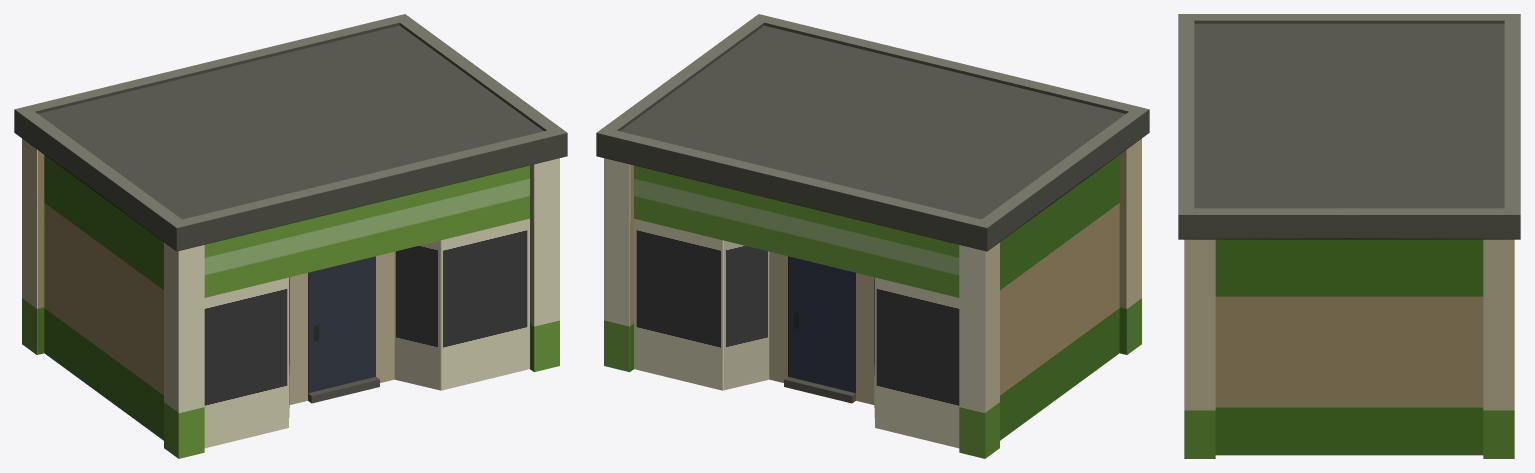
Rendered from store_small_mesh.fbx.
3 renders of one model, left to right at view 1: azimuth 30°, elevation 25°; view 2: azimuth 150°, elevation 25°; view 3: azimuth 270°, elevation 25°, orthographic. The views are drawn at different scales.
Visible parts, largest first — view 1: store_small_mesh; view 2: store_small_mesh; view 3: store_small_mesh.
Part boxes in pixels (x1,y1,x2,y2): store_small_mesh: (14, 14, 567, 458); store_small_mesh: (596, 14, 1149, 458); store_small_mesh: (1178, 14, 1520, 458).
Size of what is drawn, in the model's own units: 11.63 by 6.66 by 8.37.
